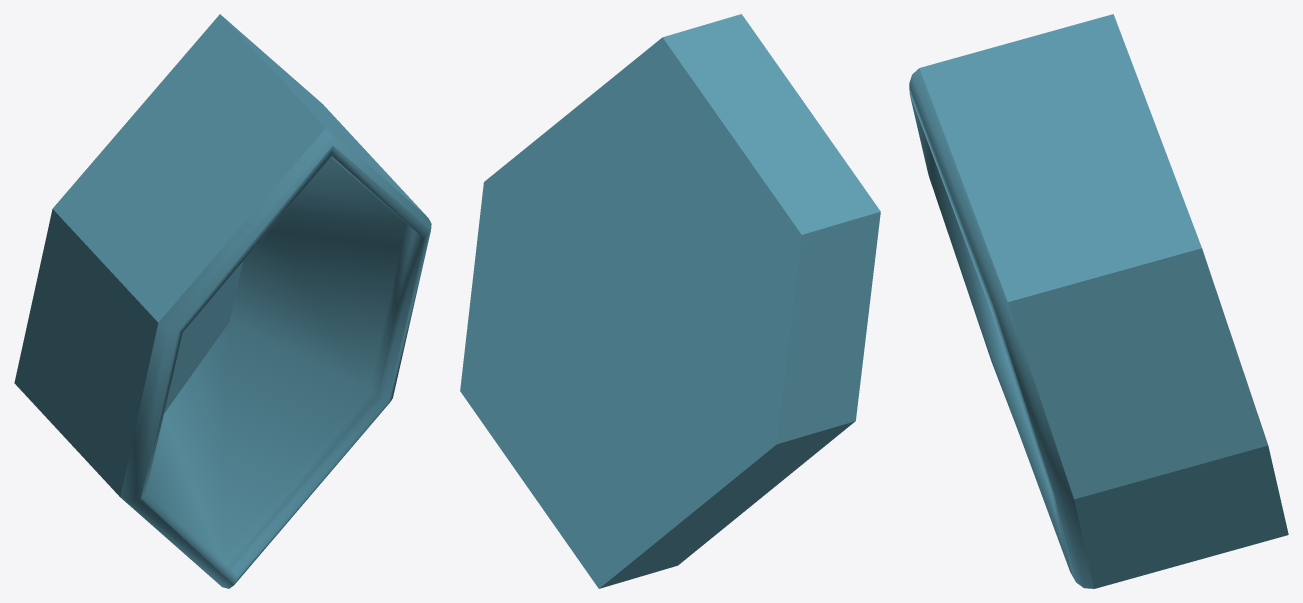
Rendered from BR1_8shapes_Hex_Classic_Metal.001 3.glb.
3 views of the same model, side by side, from view 1: azimuth 30°, elevation 25°; view 2: azimuth 150°, elevation 25°; view 3: azimuth 270°, elevation 25° (orthographic). The views are drawn at different scales.
Visible parts, largest first — view 1: BR1_8shapes_Hex_Classic_Metal.001; view 2: BR1_8shapes_Hex_Classic_Metal.001; view 3: BR1_8shapes_Hex_Classic_Metal.001.
Boxes of the visible parts, x1,y1,x2,y2 form: BR1_8shapes_Hex_Classic_Metal.001: [14, 14, 431, 588]; BR1_8shapes_Hex_Classic_Metal.001: [460, 14, 880, 588]; BR1_8shapes_Hex_Classic_Metal.001: [909, 14, 1288, 588].
Size of the model in its own units: 0.4121 by 0.6941 by 0.4127.
